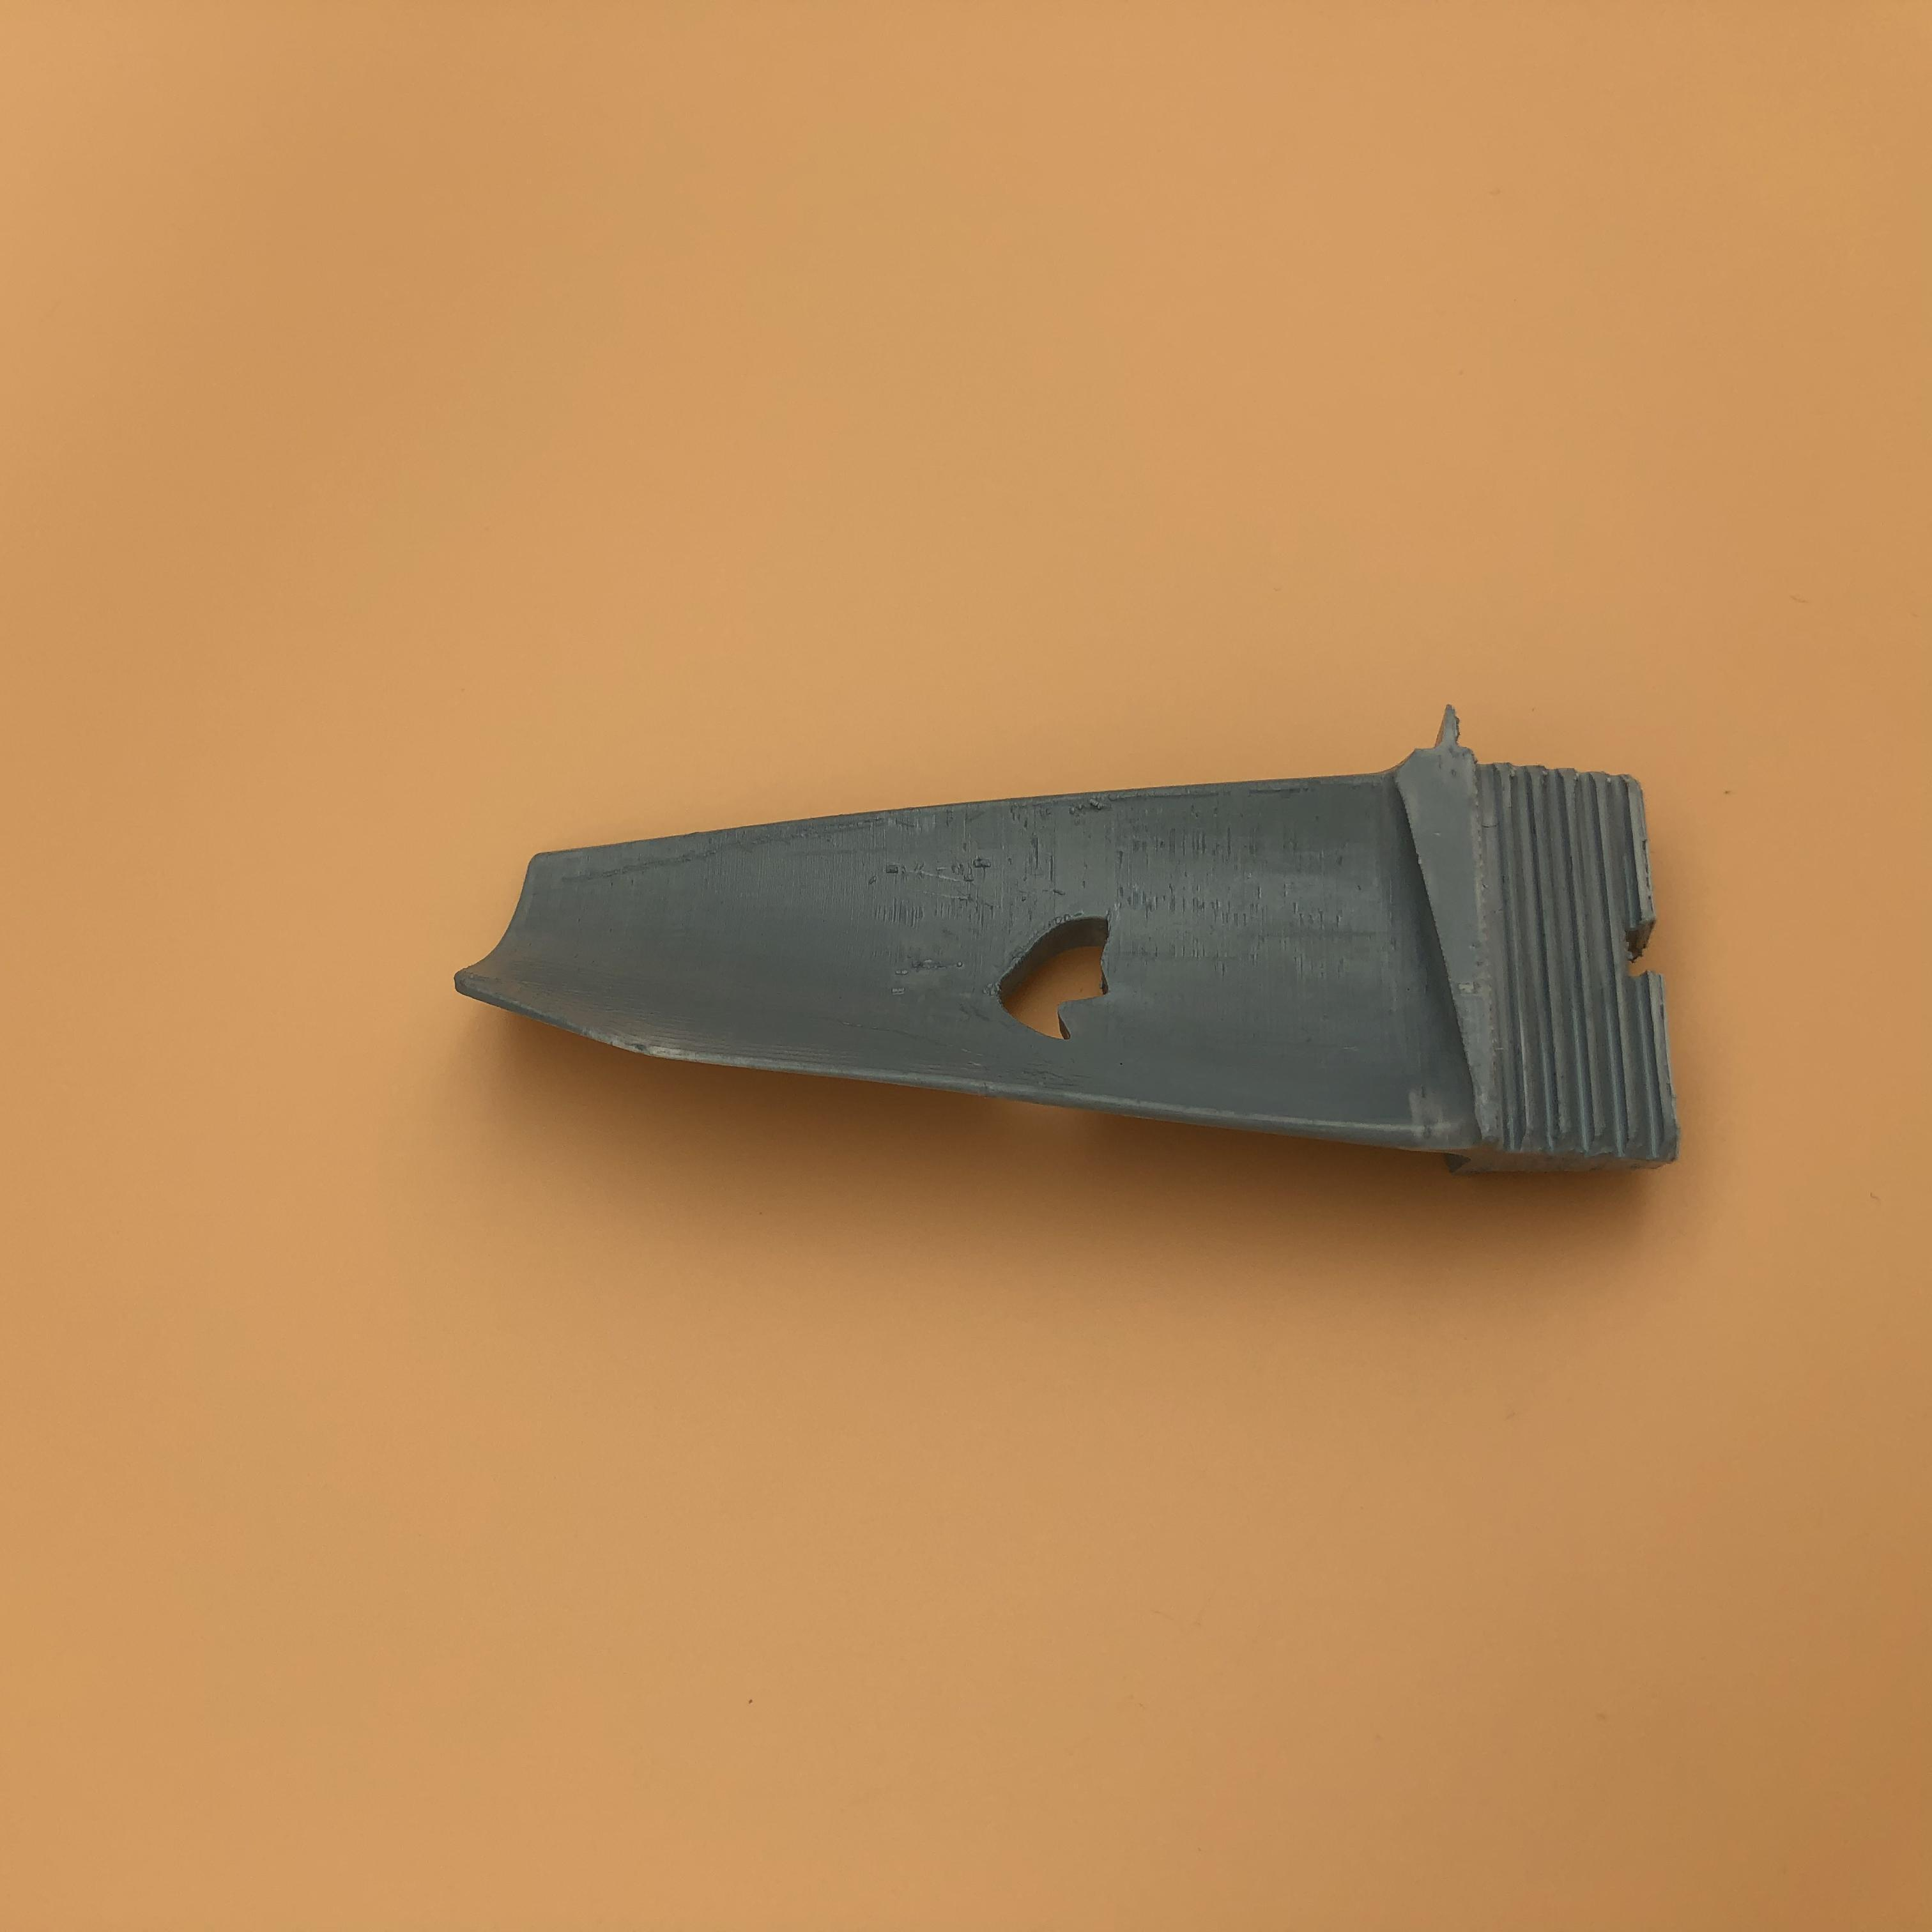breakdown: (984, 909, 1120, 1049)
